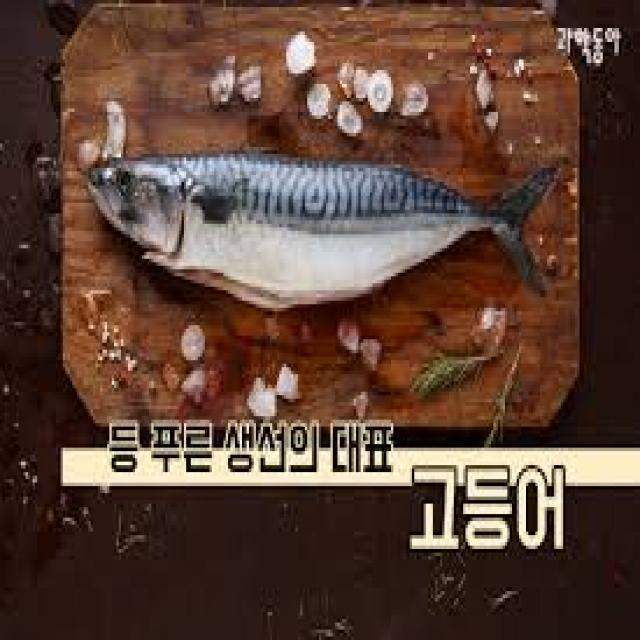fish: (88, 154, 556, 310)
